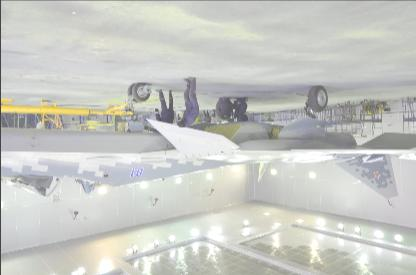SR71: (1, 81, 415, 199)
